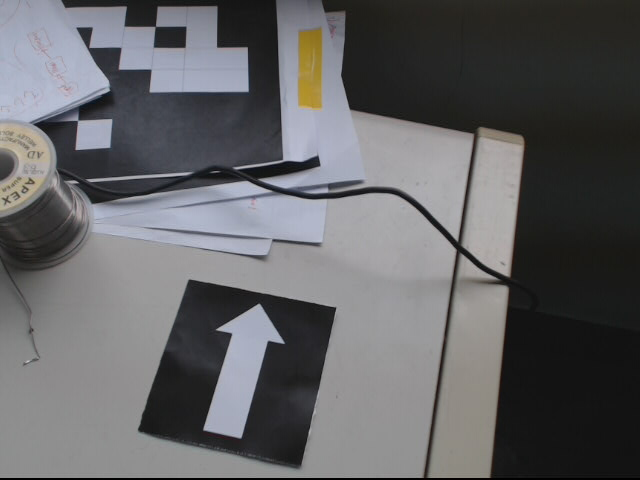straight: (139, 278, 337, 448)
